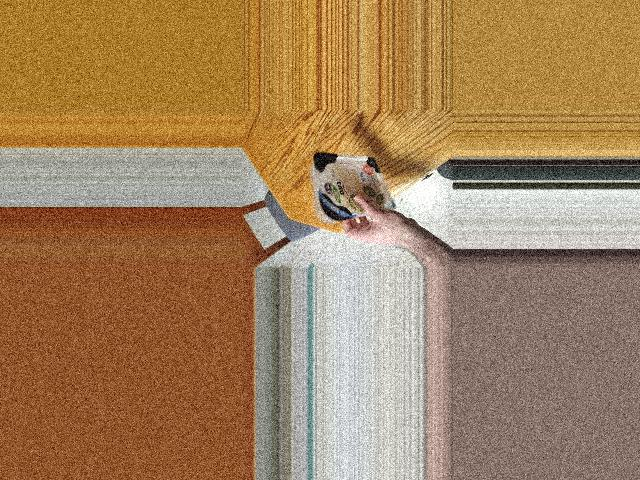cheese: (306, 156, 379, 224)
